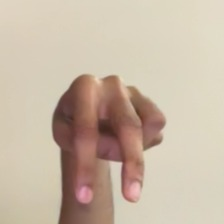N: (32, 59, 175, 214)
